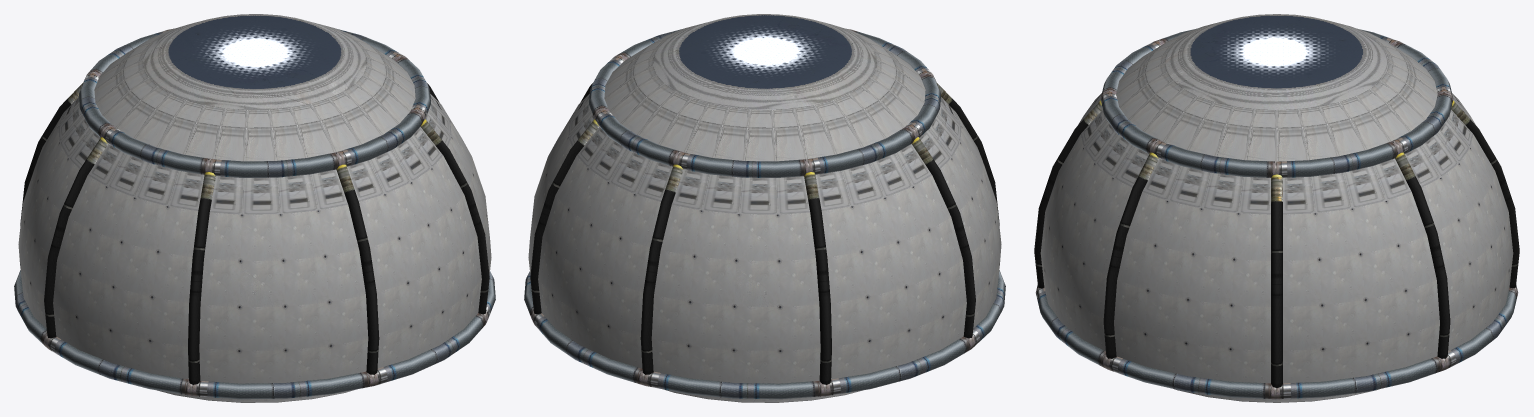
The model's file is SM_SphereThingD.fbx.
3 renders of one model, left to right at view 1: azimuth 30°, elevation 25°; view 2: azimuth 150°, elevation 25°; view 3: azimuth 270°, elevation 25°, orthographic.
Visible parts, largest first — view 1: SM_SphereThingD_LOD0; view 2: SM_SphereThingD_LOD0; view 3: SM_SphereThingD_LOD0.
Boxes of the visible parts, x1,y1,x2,y2 form: SM_SphereThingD_LOD0: (14,14,495,402); SM_SphereThingD_LOD0: (524,14,1005,402); SM_SphereThingD_LOD0: (1034,14,1519,402).
Size of the model in its own units: 410 by 410 by 256.
